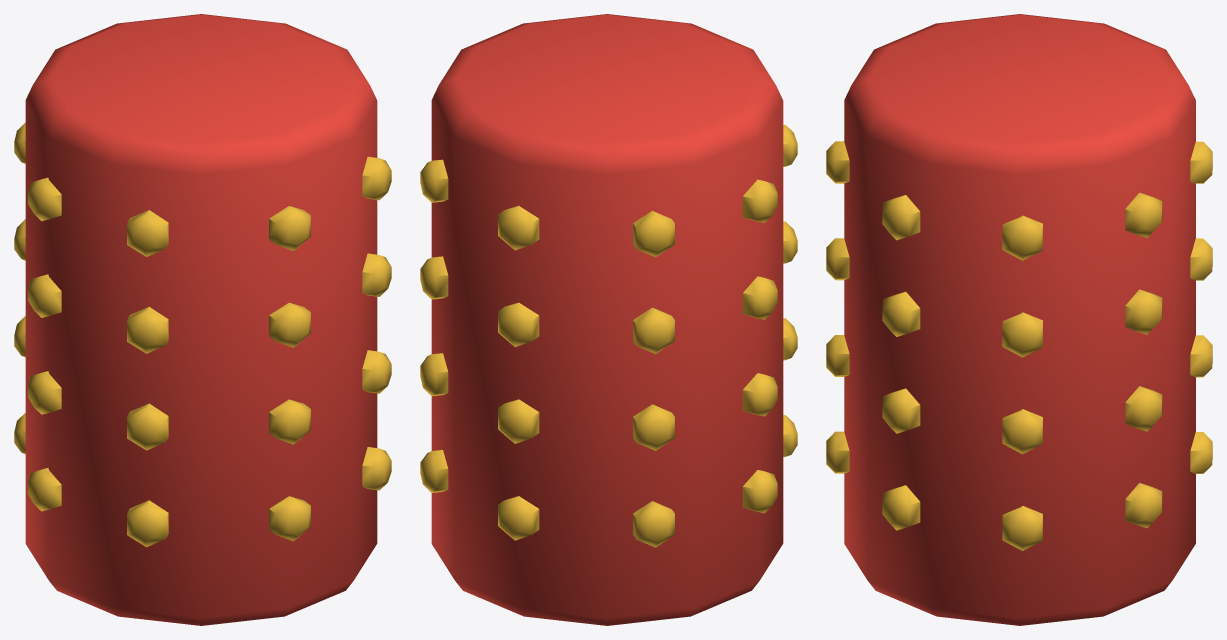
Rendered from obstacle.fbx.
3 renders of one model, left to right at view 1: azimuth 30°, elevation 25°; view 2: azimuth 150°, elevation 25°; view 3: azimuth 270°, elevation 25°, orthographic.
Parts seen in each view (by area): view 1: obstacle; view 2: obstacle; view 3: obstacle.
Boxes of the visible parts, x1=… form: obstacle: x1=14, y1=14, x2=391, y2=625; obstacle: x1=420, y1=14, x2=797, y2=625; obstacle: x1=826, y1=14, x2=1212, y2=625.
Bounding box in the file's own units: 0.3674 × 0.5022 × 0.3689.
